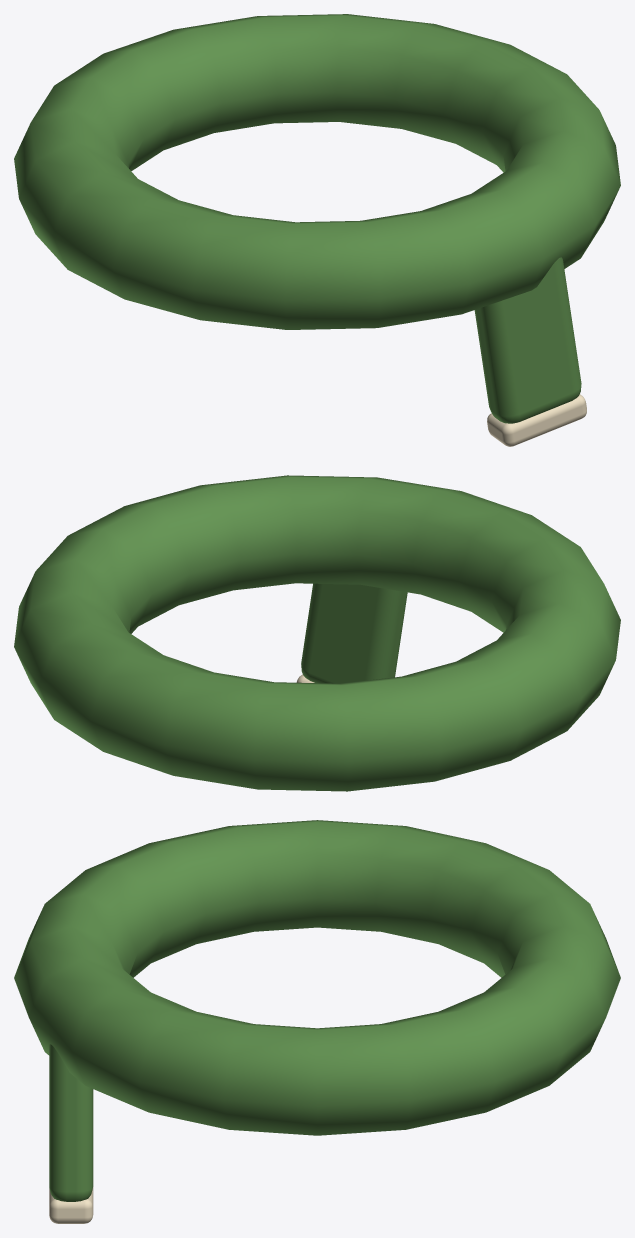
The model's file is acc-scarf.glb.
The picture shows the model from 3 angles, top to bottom: view 1: azimuth 30°, elevation 25°; view 2: azimuth 150°, elevation 25°; view 3: azimuth 270°, elevation 25°; orthographic projection.
Parts seen in each view (by area): view 1: acc-scarf; view 2: acc-scarf; view 3: acc-scarf.
Boxes of the visible parts, bbox=[...] form: acc-scarf: bbox=[14, 14, 620, 446]; acc-scarf: bbox=[14, 475, 620, 791]; acc-scarf: bbox=[14, 820, 620, 1223].
Size of the model in its own units: 1.38 by 0.6131 by 1.38.
